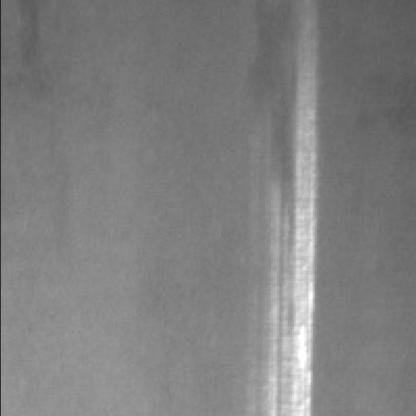scratches: (246, 50, 314, 416)
